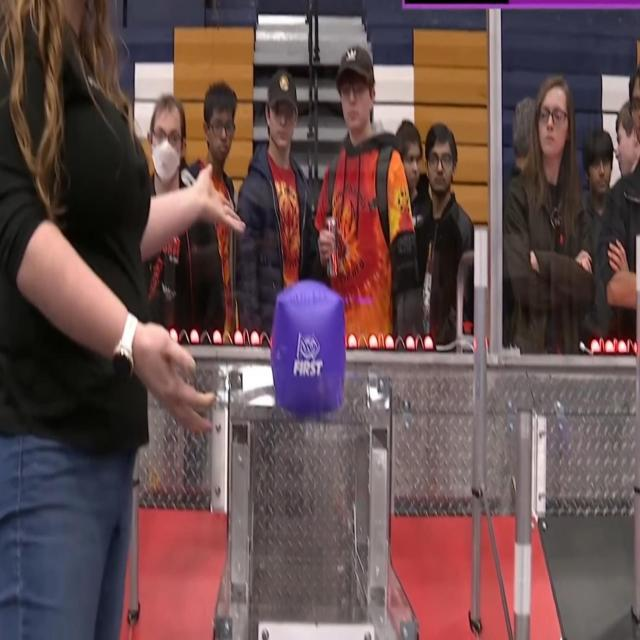frc_cube: (270, 282, 346, 418)
